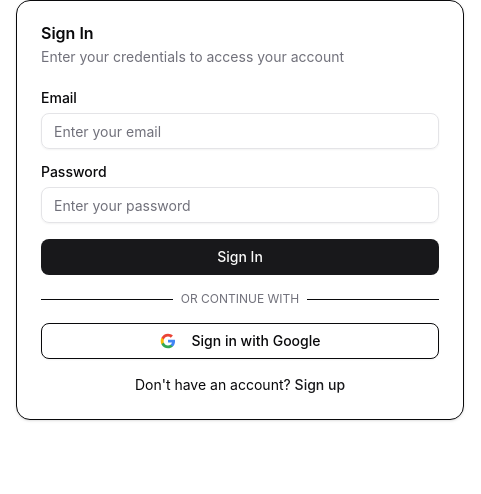
Scenario: SignInForm › shows validation errors for empty fields
Click the button "Sign In" at (240, 257), box x1=41 y1=239 x2=439 y2=275
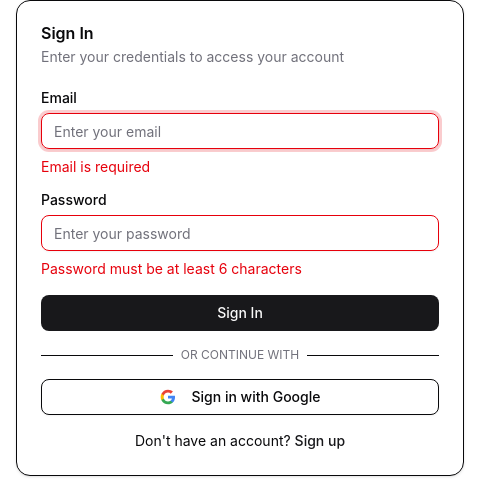
Expected: the text "Email is required" is shown, x1=41 y1=158 x2=150 y2=175
Expected: the text "Password must be at least 6 characters" is shown, x1=41 y1=260 x2=302 y2=277
